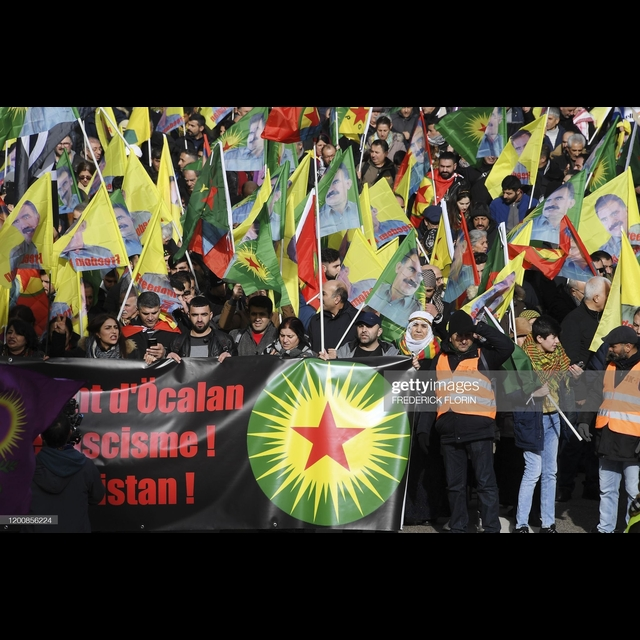APO: (591, 197, 633, 239)
KCK: (265, 364, 390, 512)
